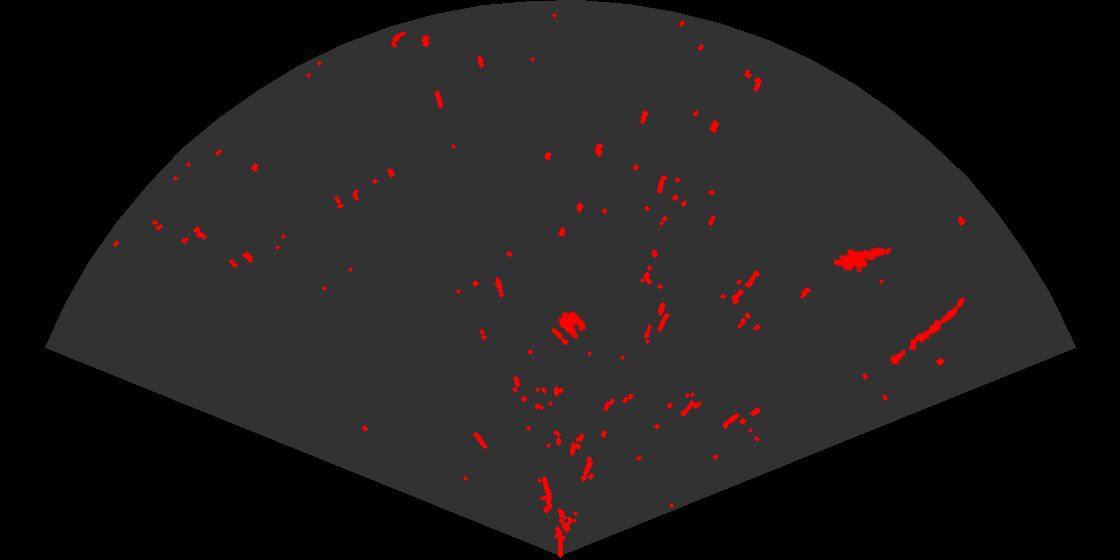ball: (550, 310, 587, 347)
chain: (888, 296, 966, 366)
frogman: (834, 246, 892, 275)
